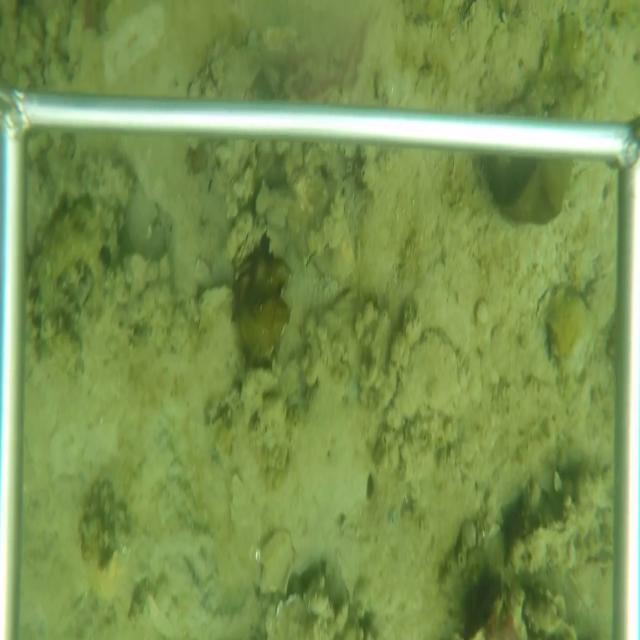Oyster-Indeterminate: (387, 327, 475, 435)
